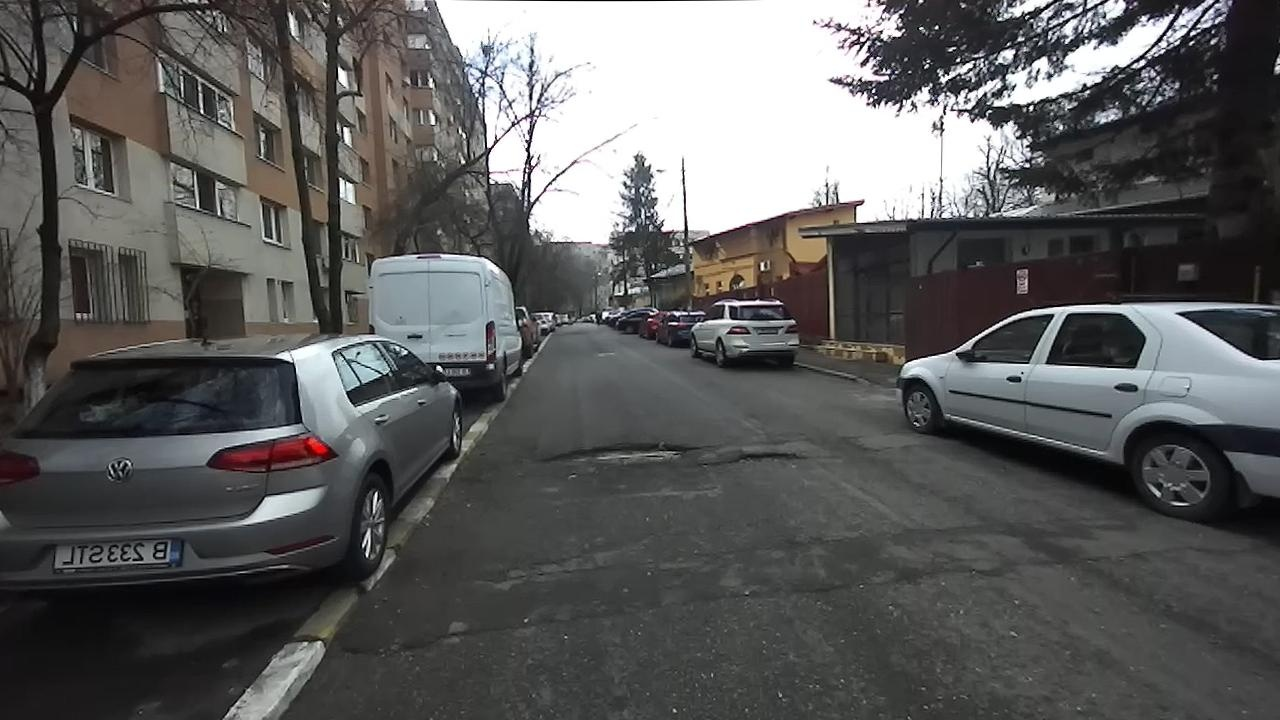pothole: (340, 622, 481, 662), (534, 437, 699, 471), (730, 449, 807, 464)
